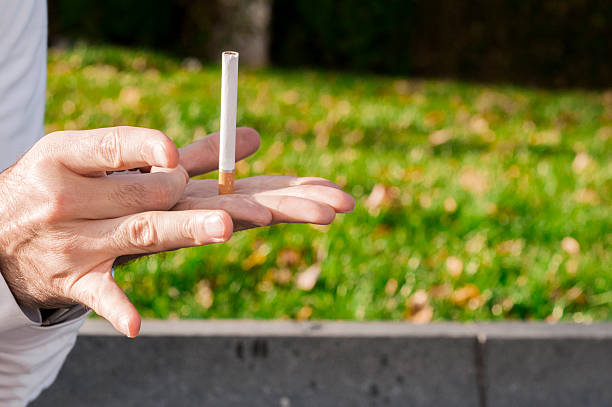cigarette: (217, 51, 240, 196)
